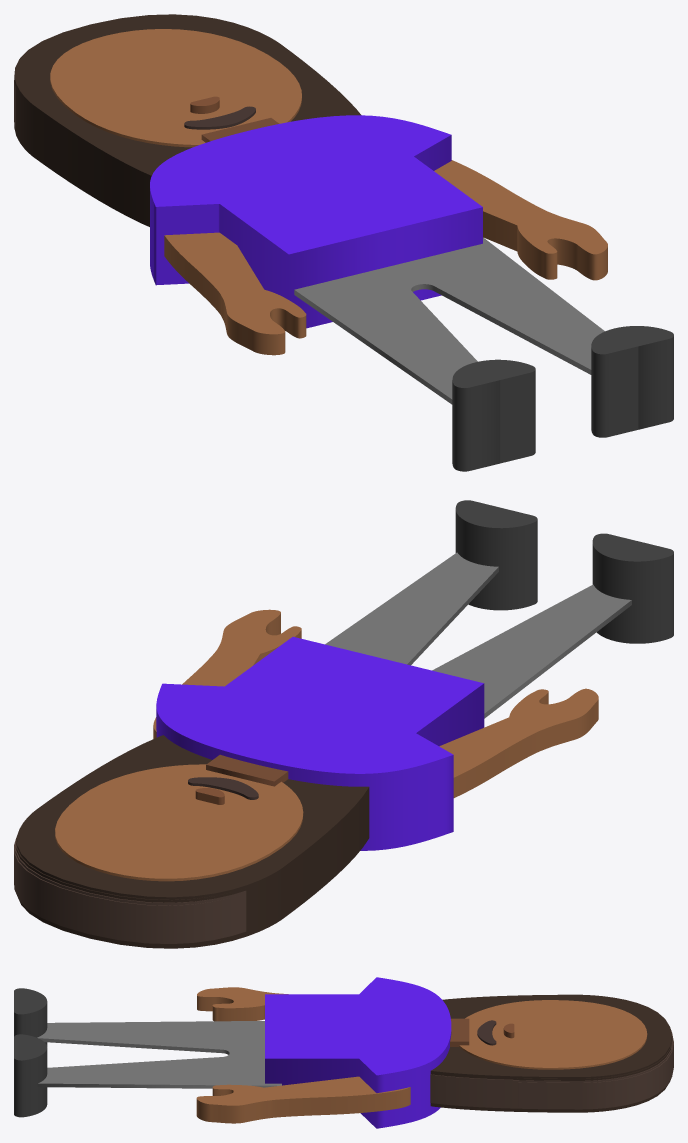
The model's file is emoji_u1f9cd_1f3fe_200d_2640.glb.
3 views of the same model, one above another, from view 1: azimuth 30°, elevation 25°; view 2: azimuth 150°, elevation 25°; view 3: azimuth 270°, elevation 25° (orthographic). The views are drawn at different scales.
Visible parts, largest first — view 1: emoji_u1f9cd_1f3fe_200d_2640; view 2: emoji_u1f9cd_1f3fe_200d_2640; view 3: emoji_u1f9cd_1f3fe_200d_2640.
Boxes of the visible parts, bbox=[...] form: emoji_u1f9cd_1f3fe_200d_2640: bbox=[14, 14, 673, 471]; emoji_u1f9cd_1f3fe_200d_2640: bbox=[14, 500, 673, 948]; emoji_u1f9cd_1f3fe_200d_2640: bbox=[14, 977, 673, 1128].
Size of the model in its own units: 0.0145 by 0.0032 by 0.0337.
